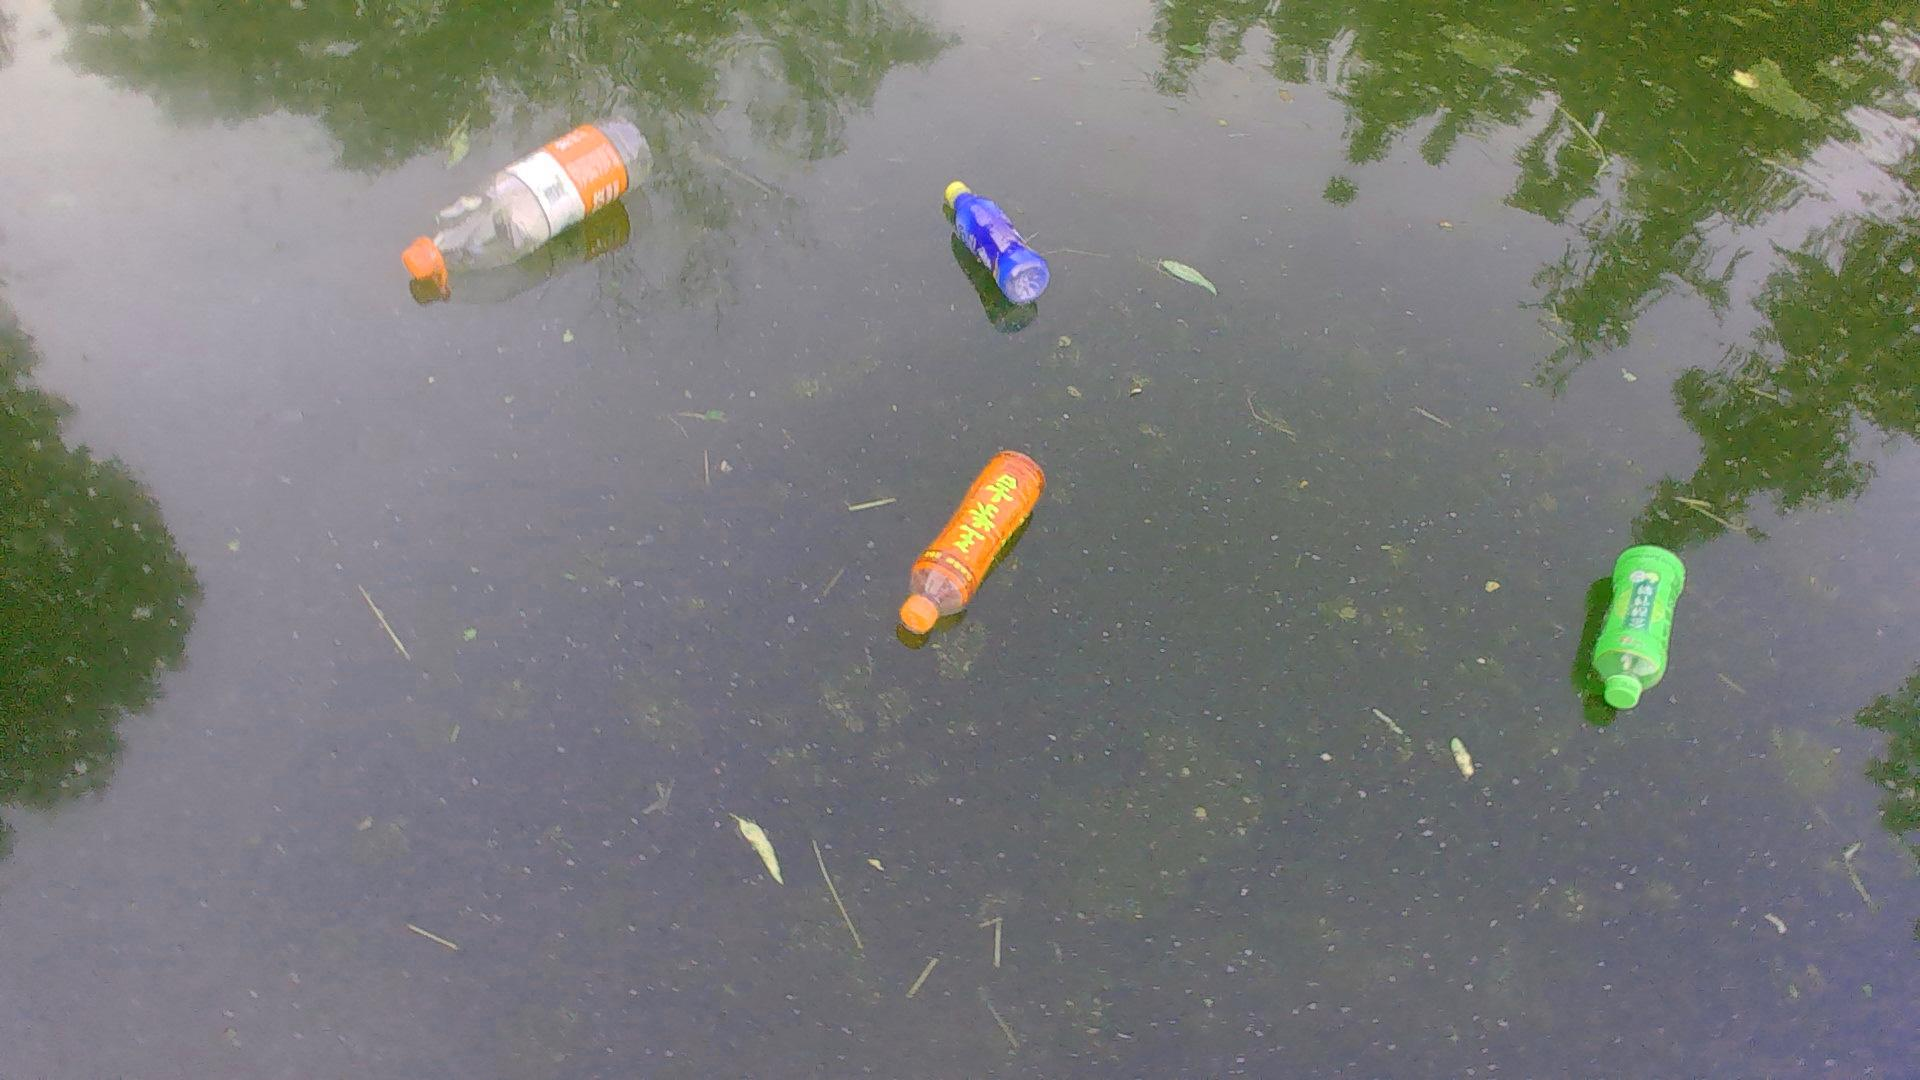Plastic: (392, 107, 663, 295), (898, 442, 1056, 636), (1578, 545, 1692, 717), (942, 170, 1060, 309)
